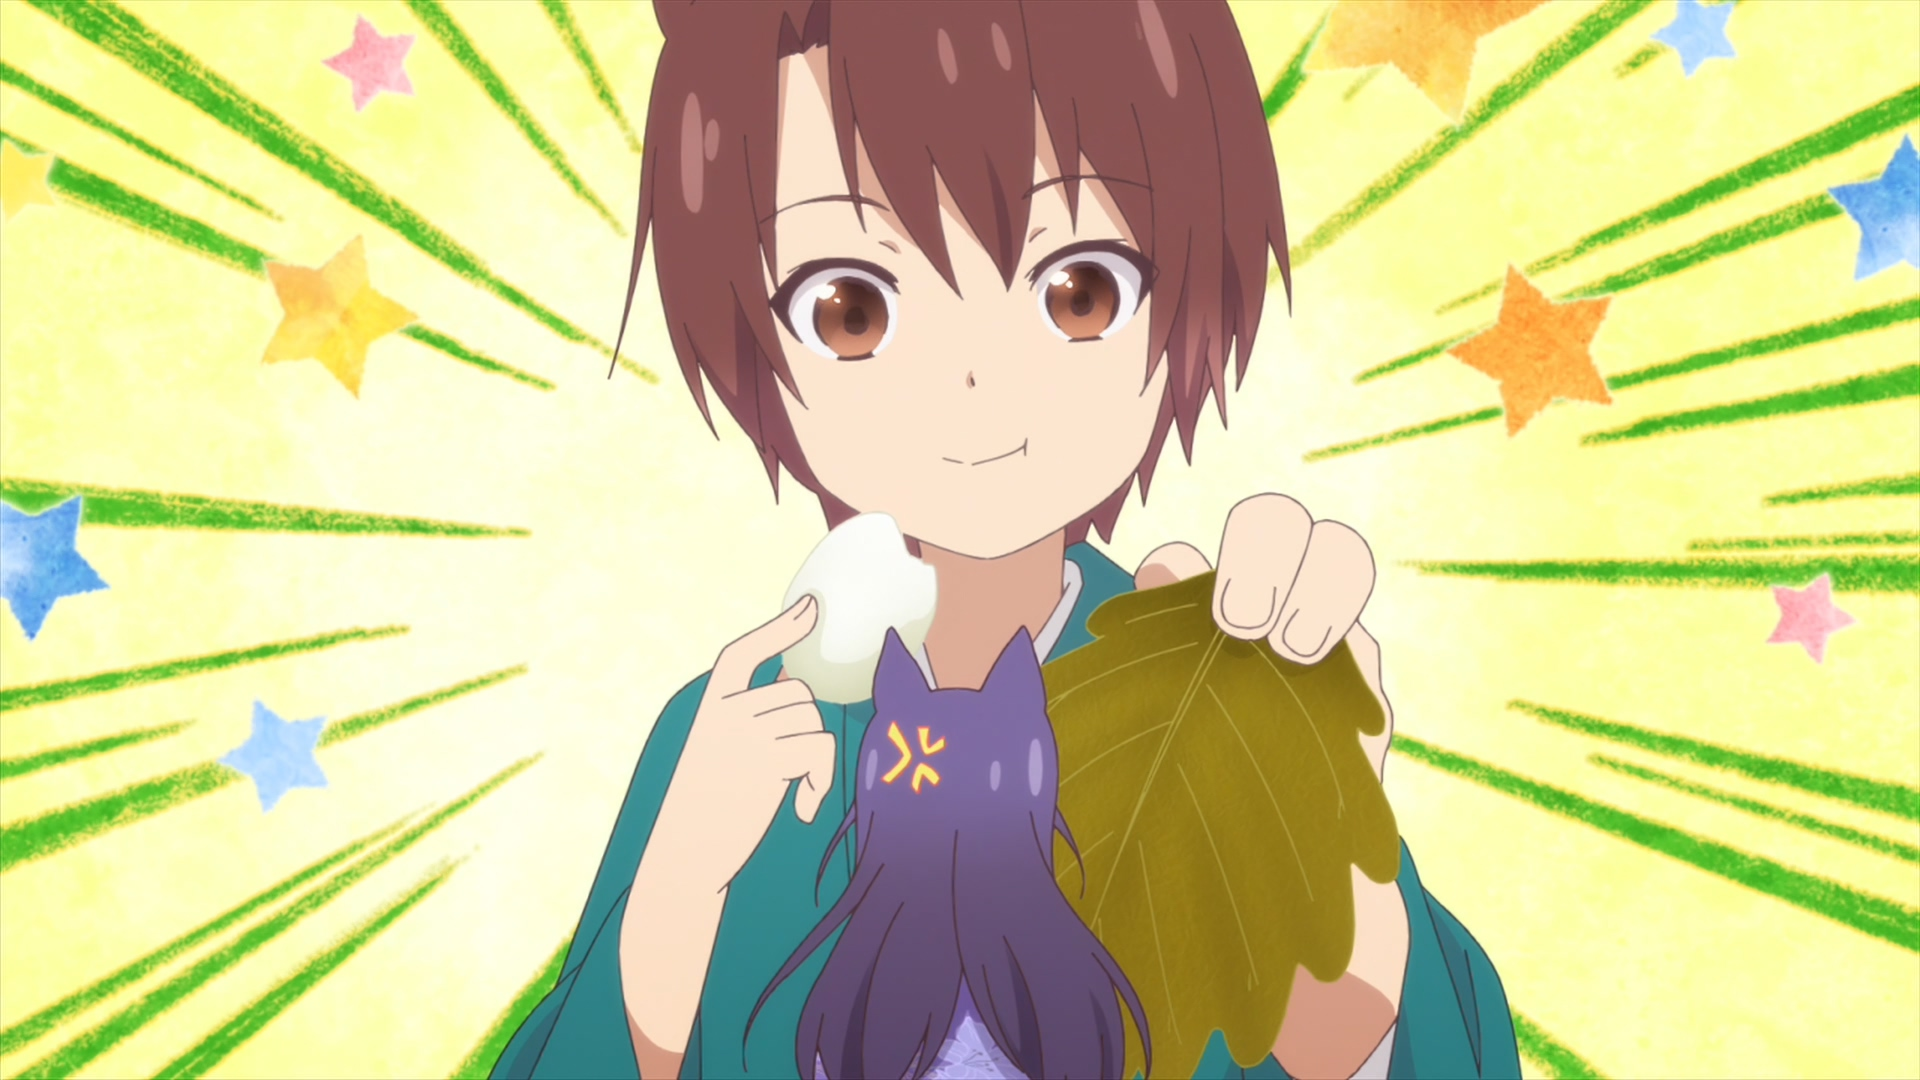枣: (491, 1, 1523, 1080)
皋: (741, 630, 1150, 1080)
